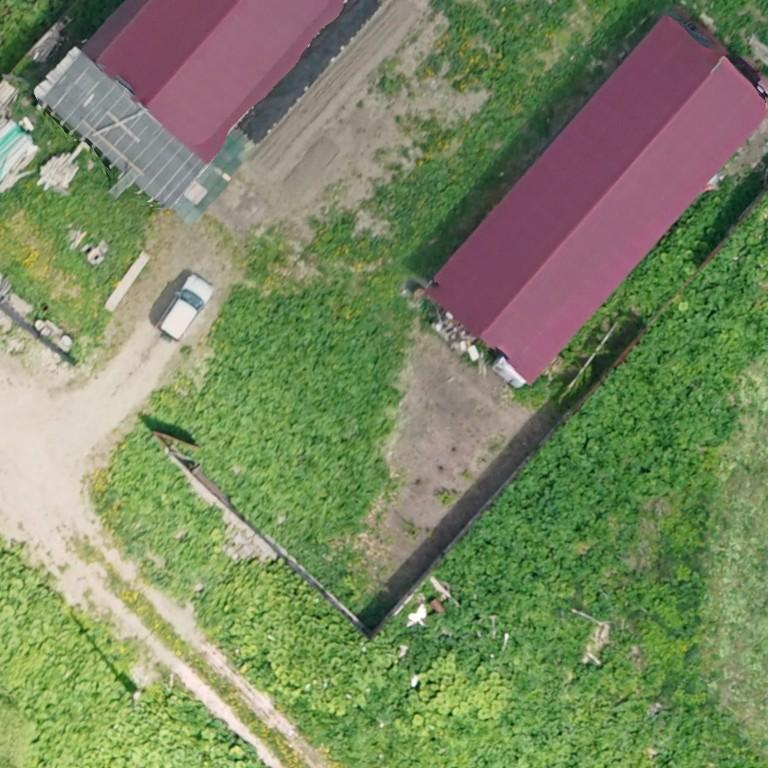hogweed: (372, 198, 767, 767), (157, 283, 407, 596), (295, 693, 382, 757)
